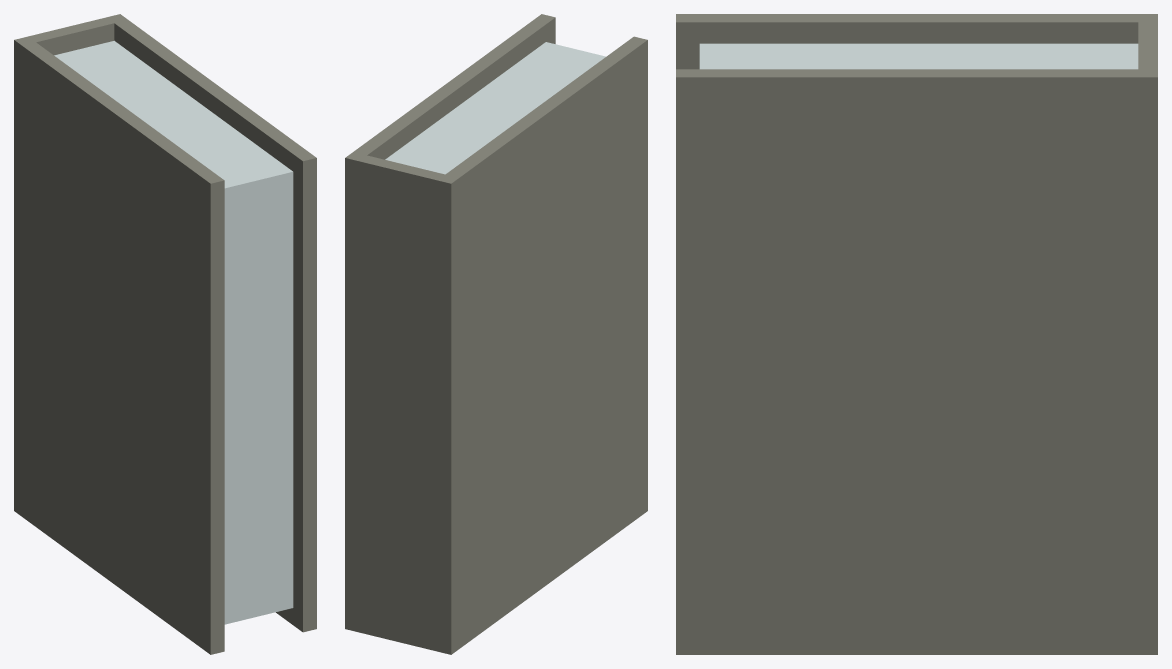
File: Book_2.fbx
3 renders of one model, left to right at view 1: azimuth 30°, elevation 25°; view 2: azimuth 150°, elevation 25°; view 3: azimuth 270°, elevation 25°, orthographic. The views are drawn at different scales.
Parts seen in each view (by area): view 1: Book_2; view 2: Book_2; view 3: Book_2.
Part boxes in pixels (bbox=[...]): Book_2: bbox=[14, 14, 316, 654]; Book_2: bbox=[345, 14, 647, 654]; Book_2: bbox=[676, 14, 1157, 654].
Bounding box in the file's own units: 8.53 × 36.18 × 27.36.
1 material, 1 textured.
